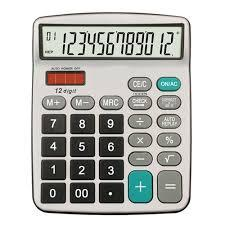Calculator: (25, 10, 202, 221)
